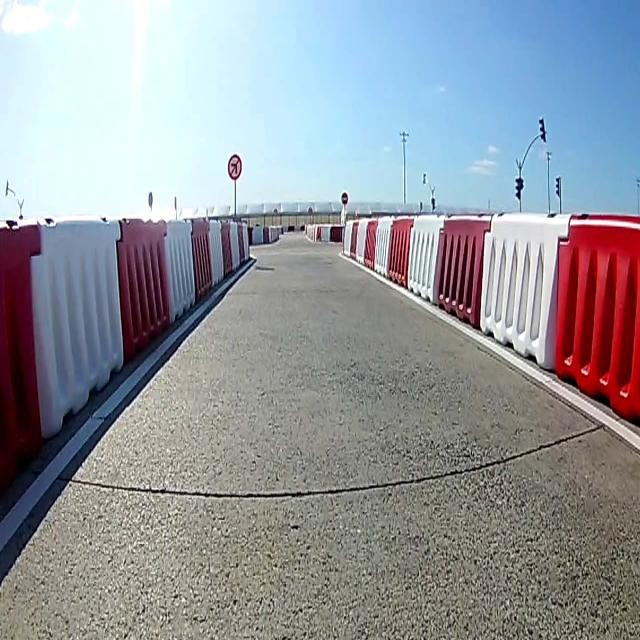girisyok: (341, 191, 349, 205)
soladonulmez: (228, 154, 242, 180)
